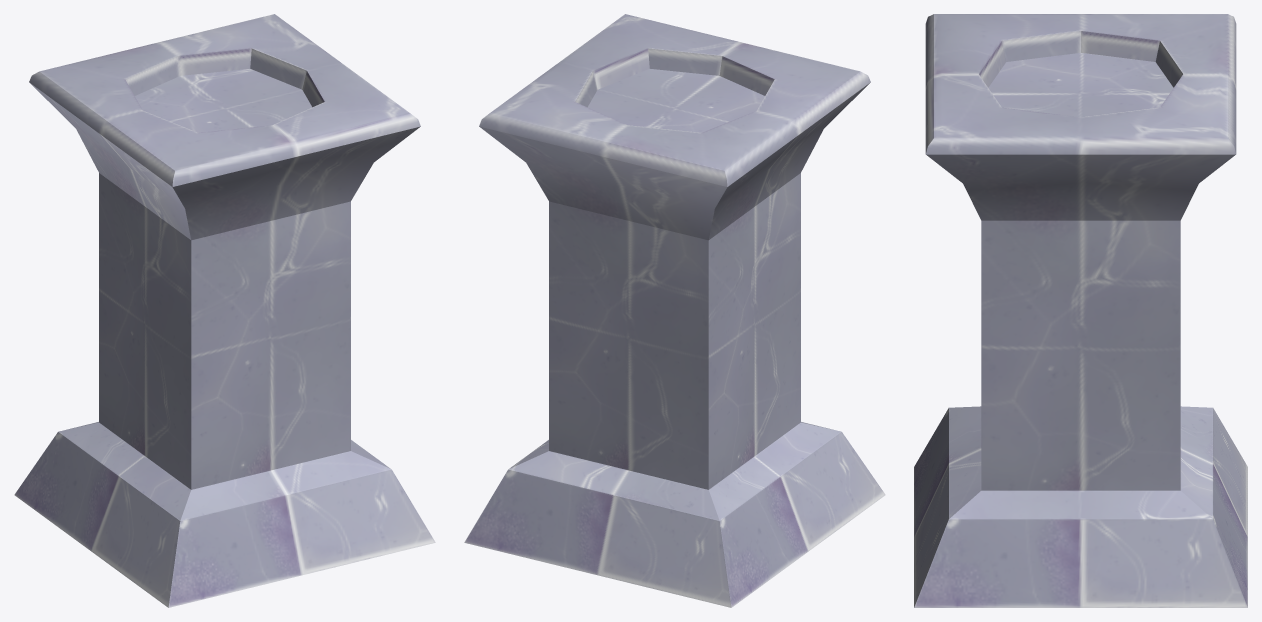
File: altar_day.fbx
3 views of the same model, side by side, from view 1: azimuth 30°, elevation 25°; view 2: azimuth 150°, elevation 25°; view 3: azimuth 270°, elevation 25° (orthographic). The views are drawn at different scales.
Parts seen in each view (by area): view 1: Cube.003; view 2: Cube.003; view 3: Cube.003.
Boxes of the visible parts, x1=… form: Cube.003: x1=14, y1=14, x2=435, y2=607; Cube.003: x1=464, y1=14, x2=885, y2=607; Cube.003: x1=914, y1=14, x2=1247, y2=607.
Size of the model in its own units: 253 by 387 by 253.
